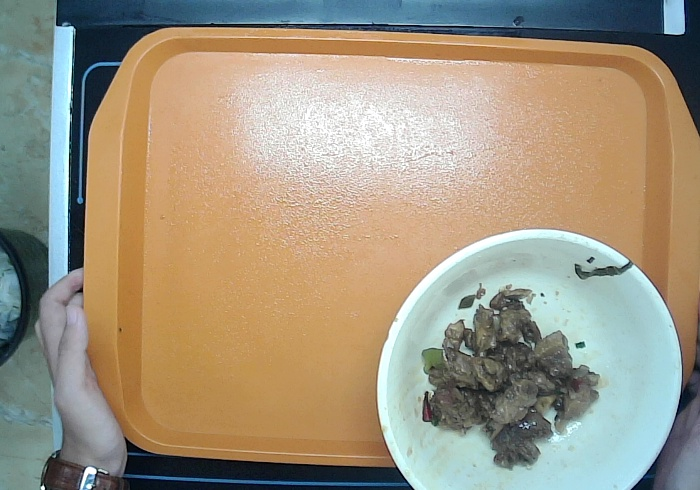ZNLD-Da_Tang_Wan: (377, 228, 681, 490)
